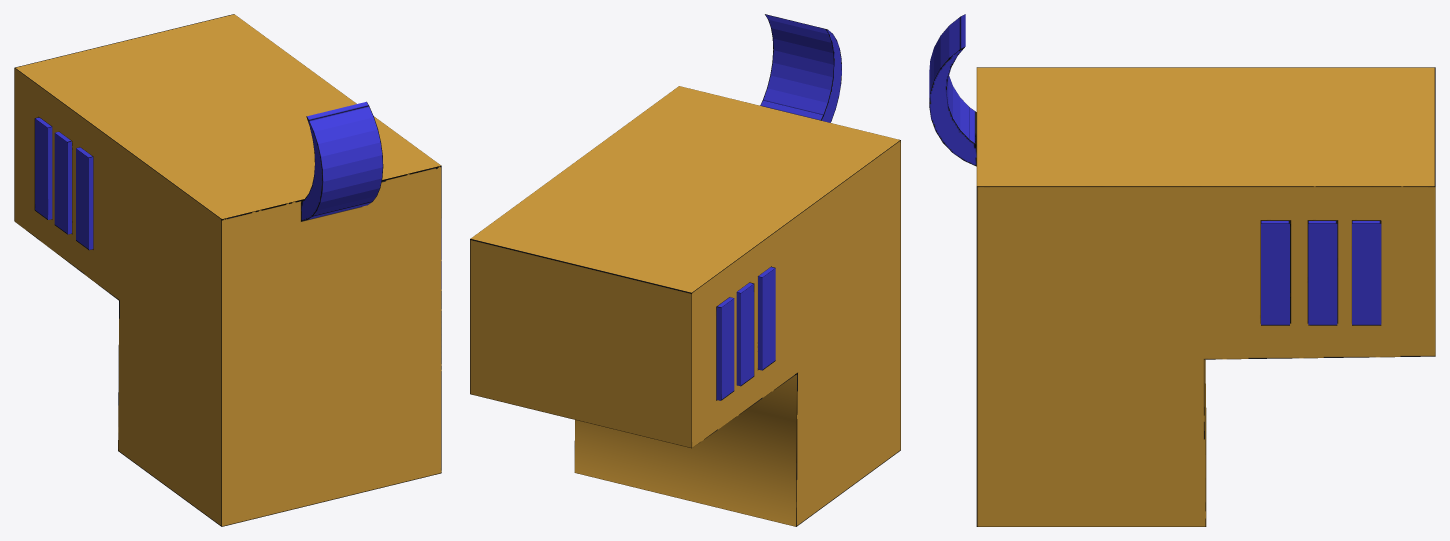
The model's file is Gun.gltf.
3 renders of one model, left to right at view 1: azimuth 30°, elevation 25°; view 2: azimuth 150°, elevation 25°; view 3: azimuth 270°, elevation 25°, orthographic. The views are drawn at different scales.
Parts seen in each view (by area): view 1: 立方体; view 2: 立方体; view 3: 立方体.
Boxes of the visible parts, x1,y1,x2,y2 form: 立方体: (14,14,441,526); 立方体: (470,14,900,526); 立方体: (929,14,1435,526).
Bounding box in the file's own units: 0.279 × 0.4607 × 0.4837.
Materials: 1 (1 with a texture image).
